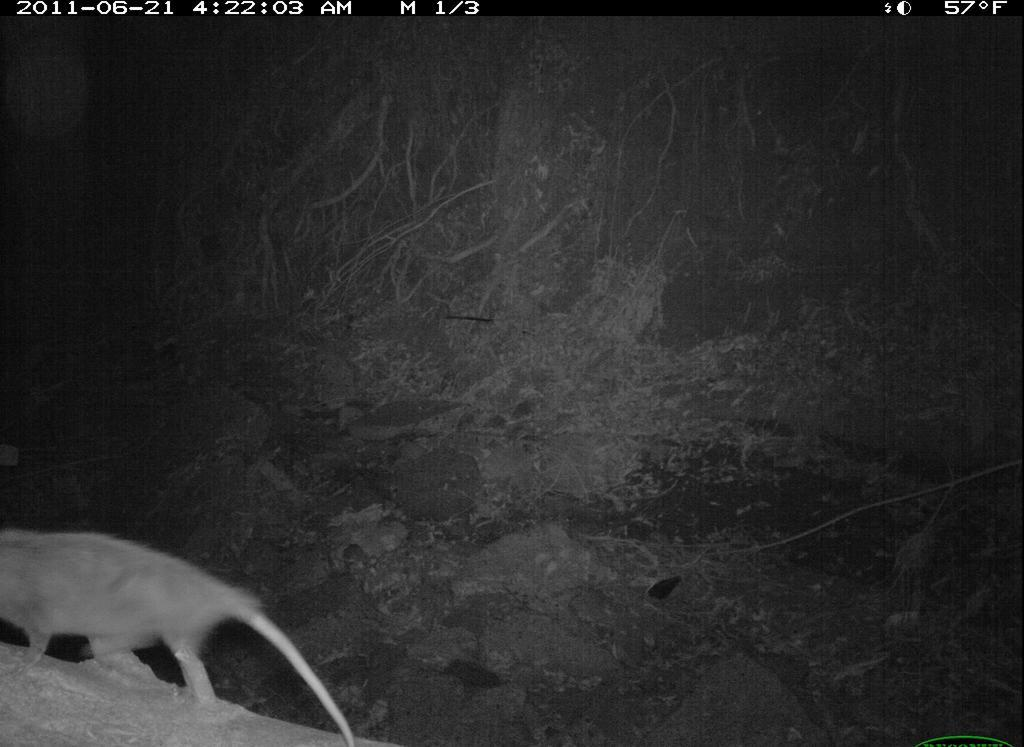opossum: (1, 523, 360, 747)
